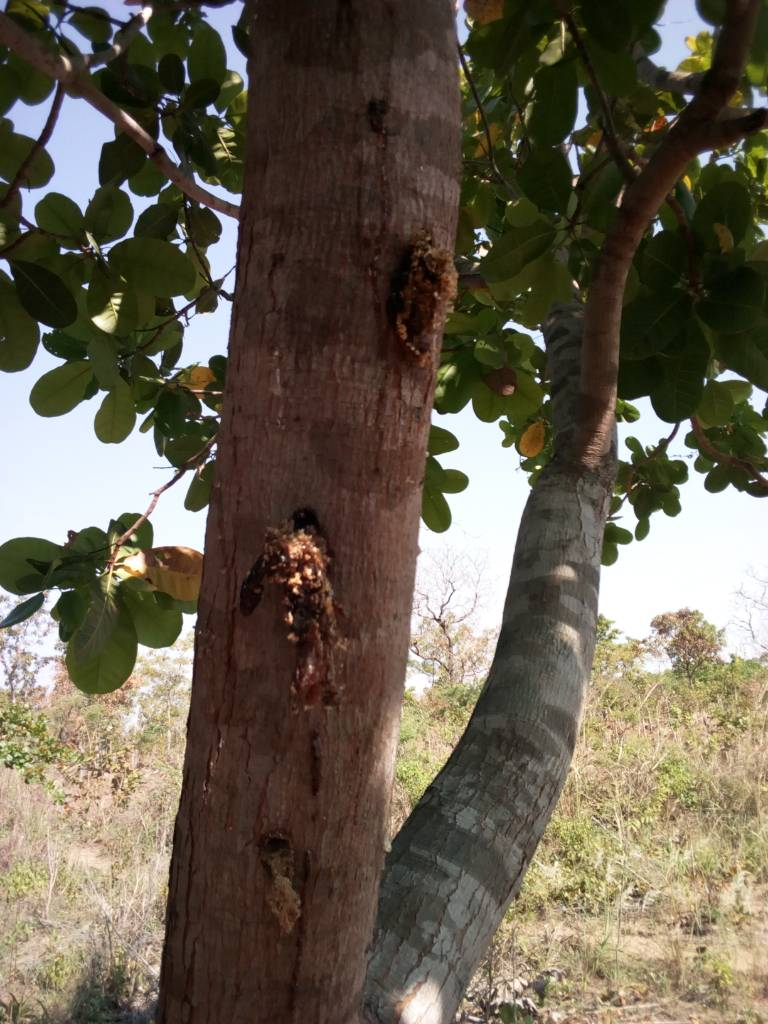Apate terebrans: (225, 493, 389, 677), (361, 227, 511, 387)
